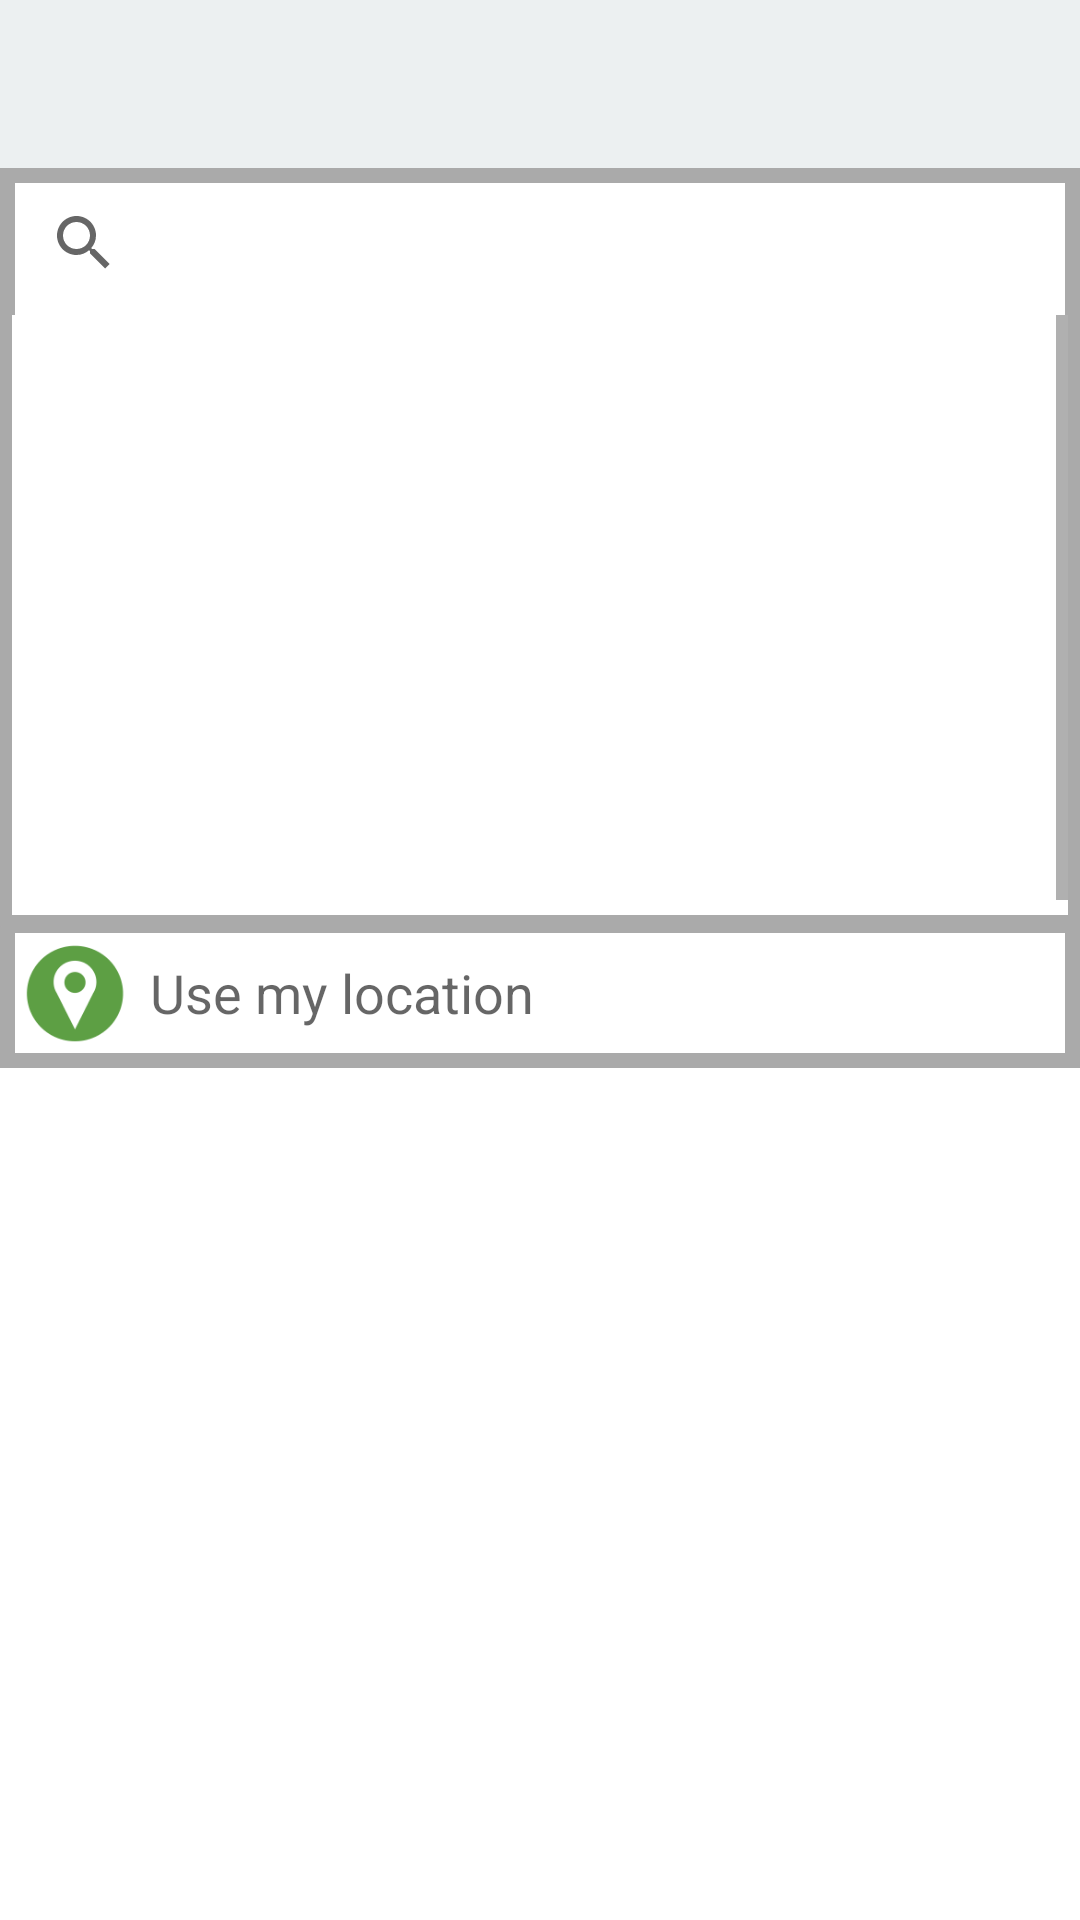

Icons on this 1080*1920 Android screen, each with its box as (x1,y1,x2,y2):
navigationsymbol: (0,918,150,1068)
